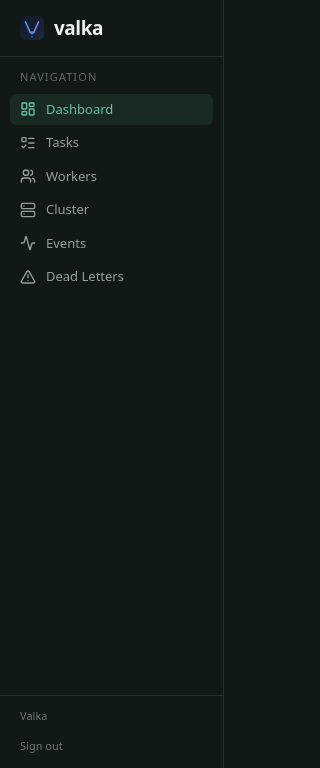
Test case: Sidebar › offers Sign out as soon as a key is stored, and hides it once signed out
// As the sign-in screen does, outside the sidebar.
Click the button "Sign out".
click(41, 746)  # box [20, 738, 63, 754]
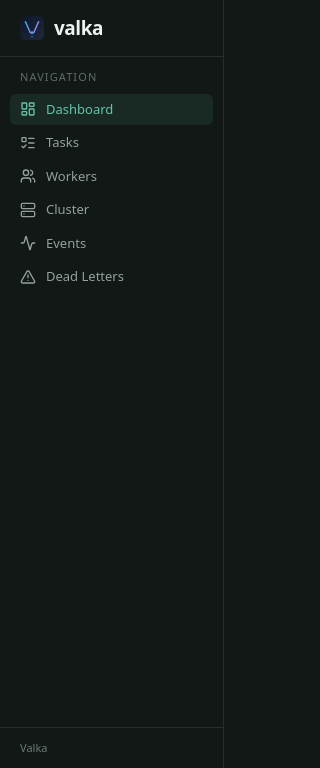
expect the button "Sign out" is gone: met
